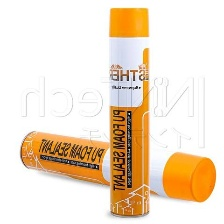aerosol_cans: (16, 127, 218, 204), (103, 4, 158, 219)
